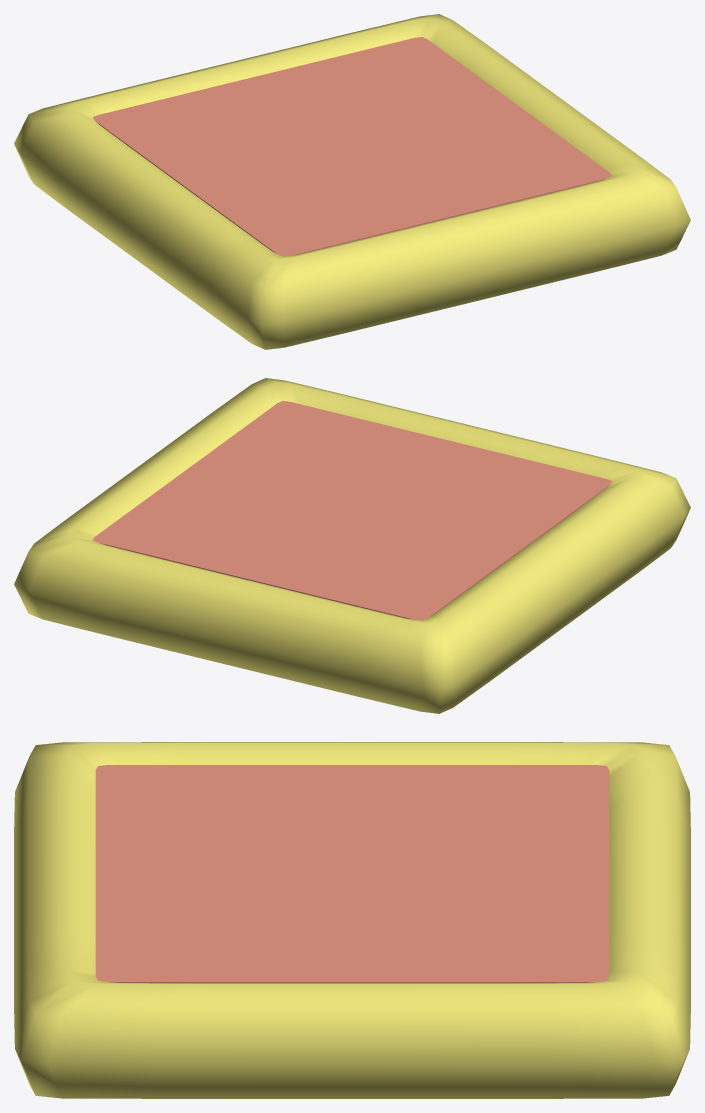
File: DrilSlotKapak.fbx
The picture shows the model from 3 angles, top to bottom: view 1: azimuth 30°, elevation 25°; view 2: azimuth 150°, elevation 25°; view 3: azimuth 270°, elevation 25°; orthographic projection. The views are drawn at different scales.
Parts seen in each view (by area): view 1: Cube.006, Cube.007, Cube.008; view 2: Cube.006, Cube.007, Cube.008; view 3: Cube.006, Cube.008, Cube.007.
Boxes of the visible parts, x1,y1,x2,y2 form: Cube.006: (14,14,690,349); Cube.007: (92,76,448,256); Cube.008: (256,37,612,217); Cube.006: (14,378,690,713); Cube.007: (256,440,612,620); Cube.008: (92,401,448,581); Cube.006: (14,742,690,1098); Cube.008: (95,873,609,983); Cube.007: (95,765,609,873).
Size of the model in its own units: 2.56 by 0.4767 by 2.56.
